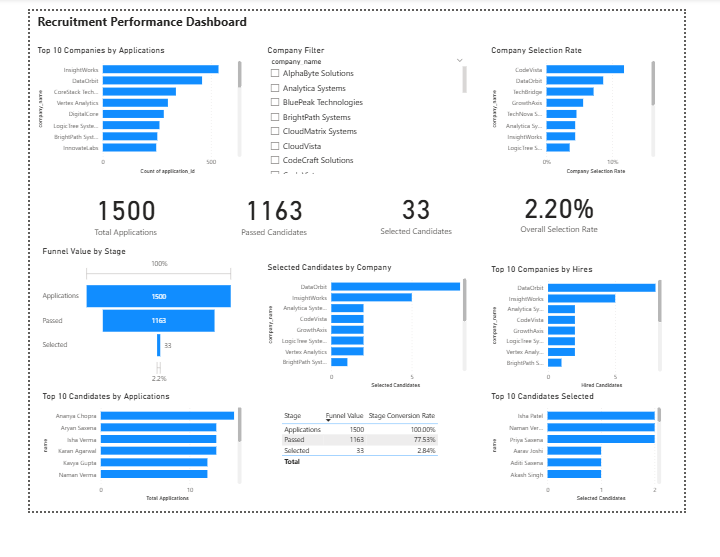

This screenshot's page, from the dashboard's own definition file:
{"tool":"powerbi","page":{"name":"Recrutiment Performance","canvas":[1307,1000],"ordinal":1},"visuals":[{"type":"funnel","fields":{"Y":["Funnel Stages.Funnel Value"],"Category":["Funnel Stages.Stage"]},"box":[20,470,391.7,280],"z":0},{"type":"tableEx","fields":{"Values":["Funnel Stages.Stage","Funnel Stages.Funnel Value","Conversion Stage.Stage Conversion Rate"]},"box":[496.7,793.3,361.7,133.3],"z":1000},{"type":"card","fields":{"Values":["applications.Total Applications"]},"box":[73.3,350,238.3,106.7],"z":3000},{"type":"card","fields":{"Values":["application_stages.Passed Candidates"]},"box":[371.7,350,231.7,106.7],"z":4000},{"type":"card","fields":{"Values":["application_stages.Selected Candidates"]},"box":[678.3,345,190,111.7],"z":5000},{"type":"card","fields":{"Values":["Conversion Stage.Overall Selection Rate"]},"box":[878.3,343.3,361.7,111.7],"z":6000},{"type":"clusteredBarChart","title":"Selected Candidates by Company","fields":{"Category":["companies.company_name"],"Y":["application_stages.Selected Candidates"]},"box":[470,503.3,408.3,256.7],"z":7000},{"type":"barChart","title":"Company Selection Rate","fields":{"Category":["companies.company_name"],"Y":["Conversion Stage.Company Selection Rate"]},"box":[916.7,66.7,338.3,263.3],"z":8000},{"type":"clusteredBarChart","title":"Top 10 Companies by Applications","fields":{"Category":["companies.company_name"],"Y":["CountNonNull(application_stages.application_id)"]},"box":[10,66.7,418.3,263.3],"z":8001},{"type":"clusteredBarChart","title":"Top 10 Companies by Hires","fields":{"Category":["companies.company_name"],"Y":["application_stages.Hired Candidates"]},"box":[916.7,505,351.7,255],"z":8002},{"type":"clusteredBarChart","title":"Top 10 Candidates by Applications","fields":{"Category":["candidates.name"],"Y":["applications.Total Applications"]},"box":[20,760,408.3,225],"z":8003},{"type":"clusteredBarChart","title":"Top 10 Candidates Selected","fields":{"Category":["candidates.name"],"Y":["application_stages.Selected Candidates"]},"box":[918.3,760,350,225],"z":8004},{"type":"slicer","title":"Company Filter","fields":{"Values":["companies.company_name"]},"box":[470,66.7,408.3,263.3],"z":8005},{"type":"textbox","box":[10,0,570,50],"z":8007}]}

Visuals, with their boxes in screenshot pixels (x1, y1, x2, y2), scaled from the page's 1307x1000 canvas onto the 720x557 screenshot:
funnel - Funnel Stages.Funnel Value x Funnel Stages.Stage: [11, 262, 227, 418]
tableEx - Funnel Stages.Stage x Funnel Stages.Funnel Value: [274, 442, 473, 516]
card - applications.Total Applications: [40, 195, 172, 254]
card - application_stages.Passed Candidates: [205, 195, 332, 254]
card - application_stages.Selected Candidates: [374, 192, 478, 254]
card - Conversion Stage.Overall Selection Rate: [484, 191, 683, 253]
"Selected Candidates by Company" clusteredBarChart: [259, 280, 484, 423]
"Company Selection Rate" barChart: [505, 37, 691, 184]
"Top 10 Companies by Applications" clusteredBarChart: [6, 37, 236, 184]
"Top 10 Companies by Hires" clusteredBarChart: [505, 281, 699, 423]
"Top 10 Candidates by Applications" clusteredBarChart: [11, 423, 236, 549]
"Top 10 Candidates Selected" clusteredBarChart: [506, 423, 699, 549]
"Company Filter" slicer: [259, 37, 484, 184]
textbox: [6, 0, 320, 28]
